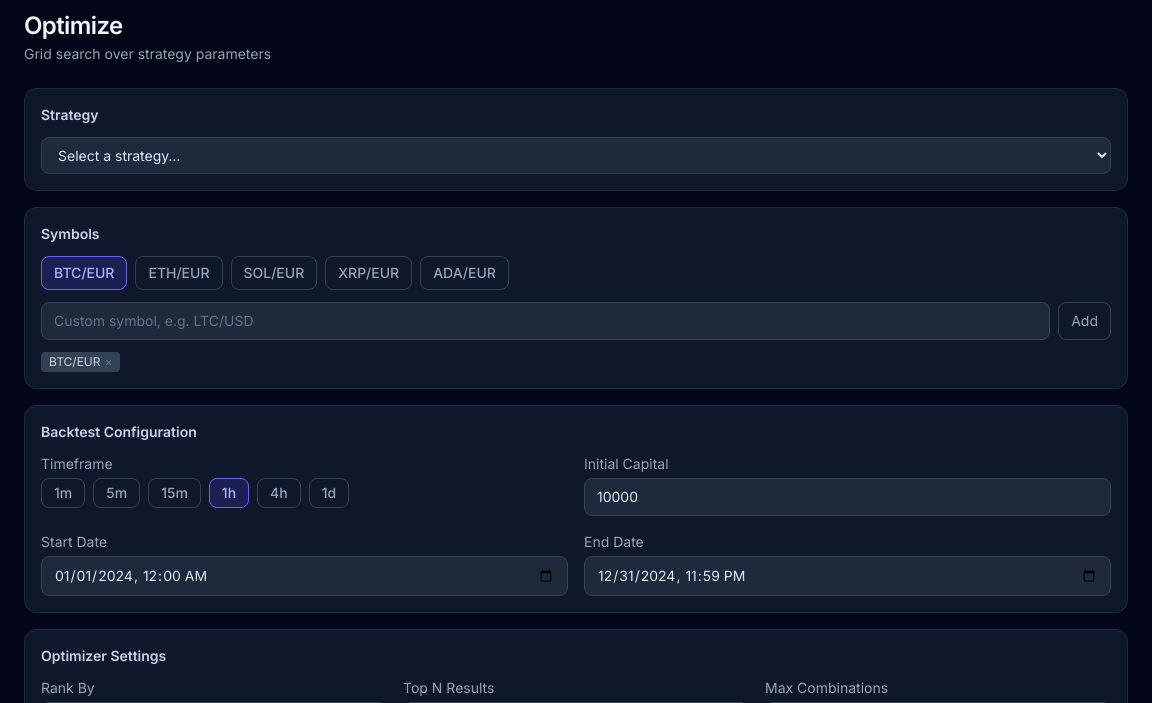
OptimizePage — structured 422 rendering (CF-13a-1 item 2) › falls back to the generic message for a plain client-side validation error
Select "momentum_breakout" in the 1st dropdown at coordinates (576, 156), box [41,137,1111,174]
(page scrolled)
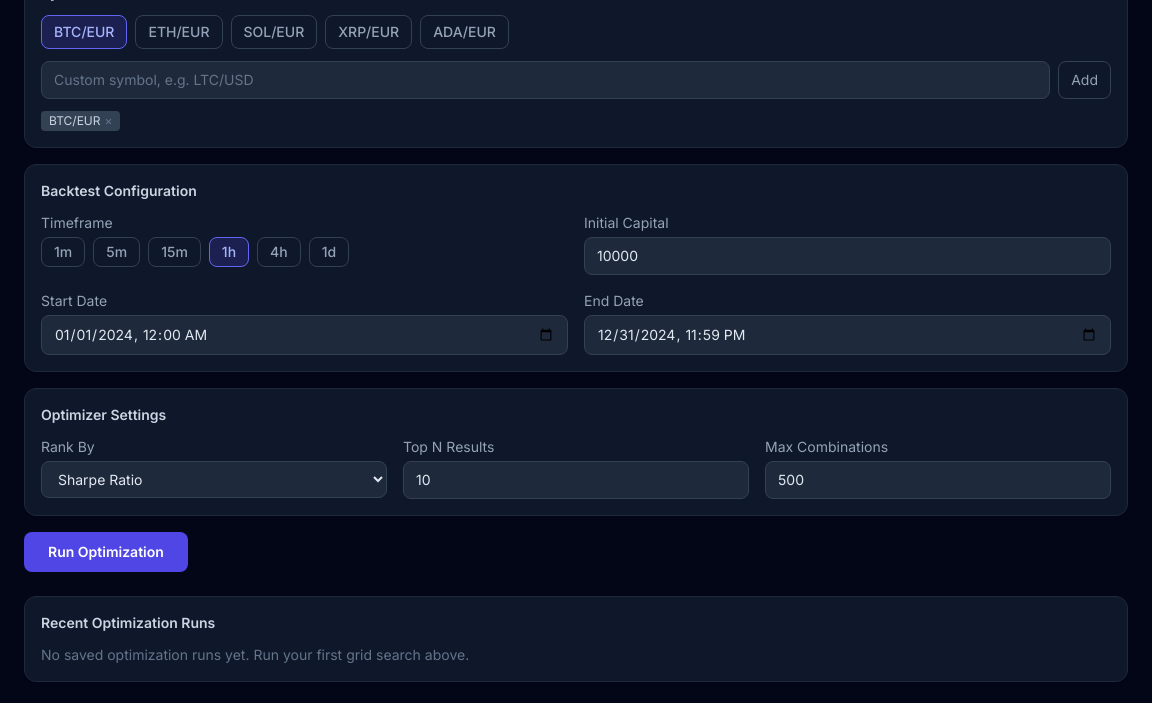
Click the button "Run Optimization" at coordinates (106, 552), box [24,532,188,572]
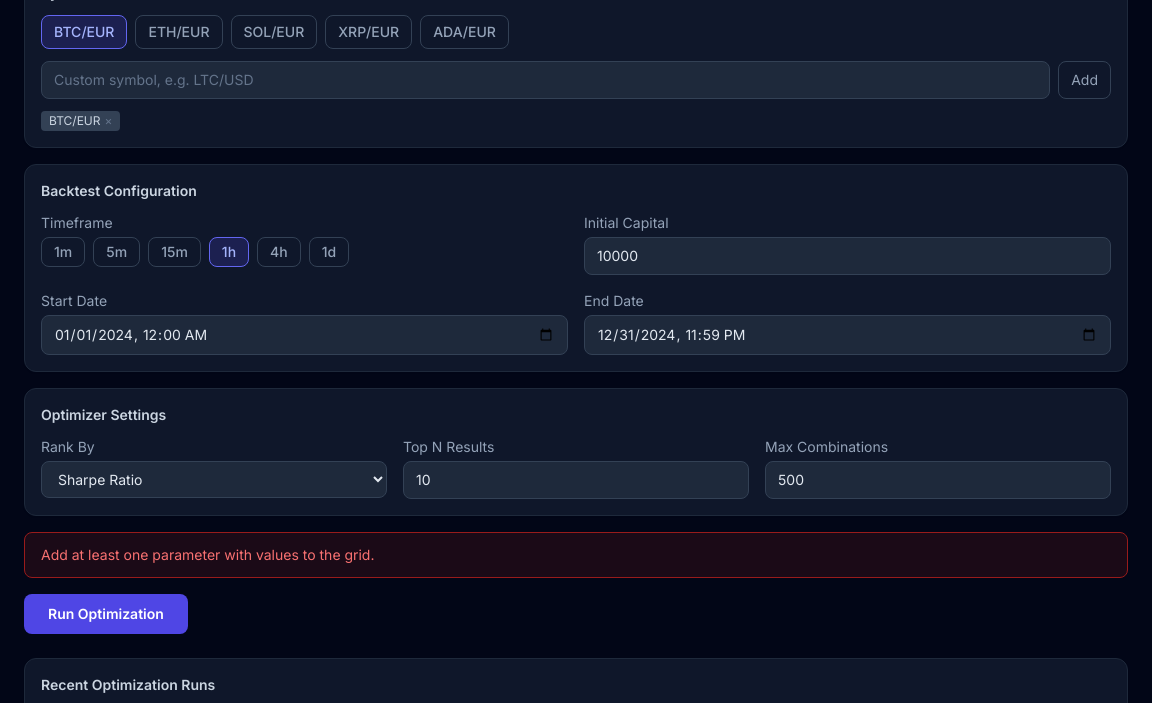
Expected: the text "Add at least one parameter with values to the grid." is shown, [24,532,1128,578]
